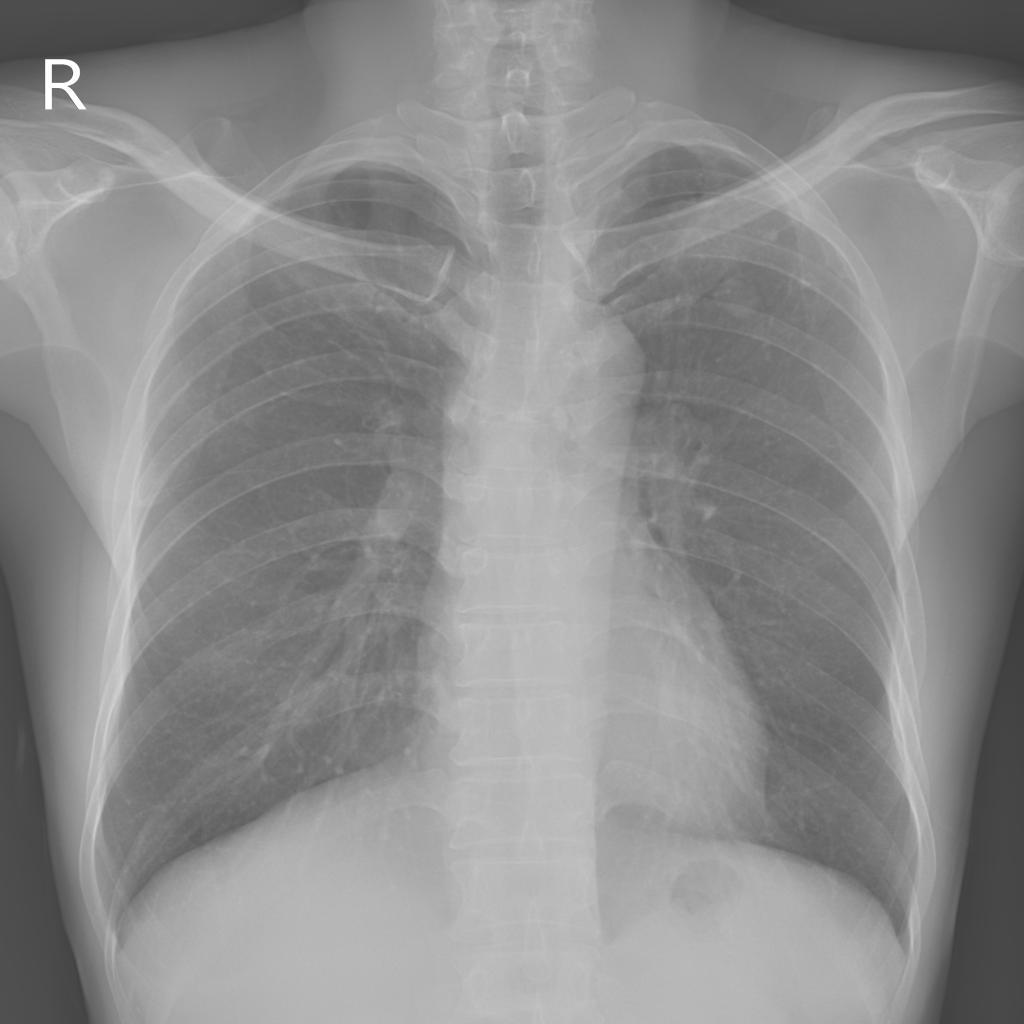Nodule: (714, 279, 769, 322)
